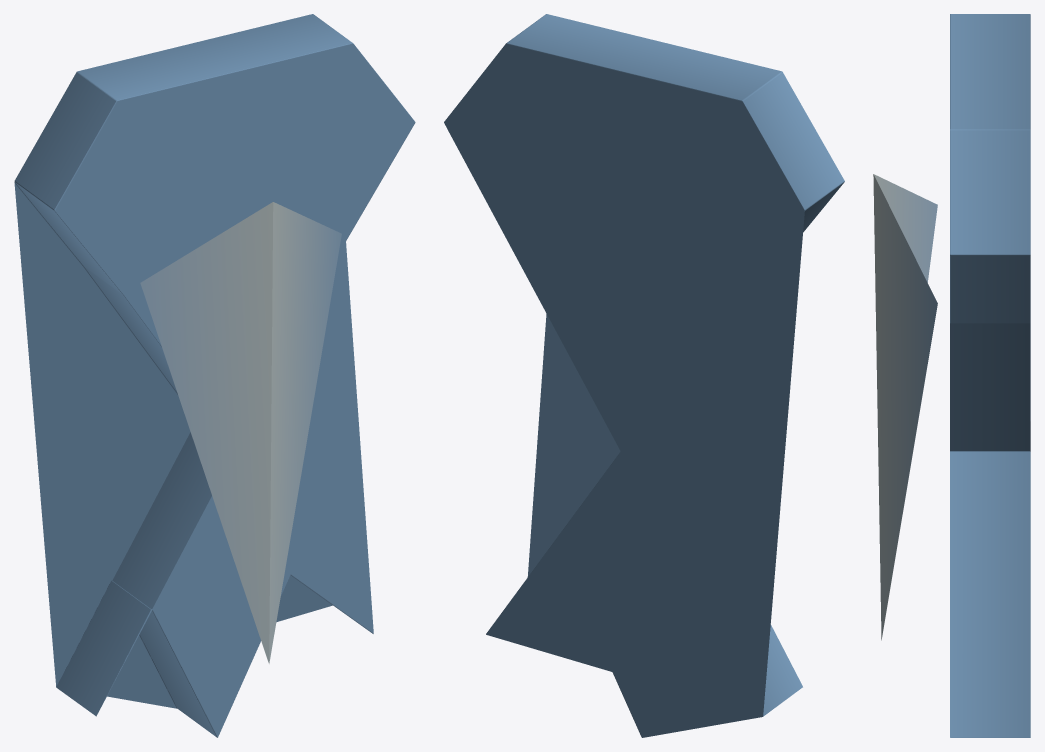
File: Eula_ShatteredLightfallSword_LightfallBlade.fbx
3 renders of one model, left to right at view 1: azimuth 30°, elevation 25°; view 2: azimuth 150°, elevation 25°; view 3: azimuth 270°, elevation 25°, orthographic.
Visible parts, largest first — view 1: PART_FacetedPaleSwordBlade, PART_RaisedChiselBladeRidge; view 2: PART_FacetedPaleSwordBlade; view 3: PART_FacetedPaleSwordBlade, PART_RaisedChiselBladeRidge.
Boxes of the visible parts, box(x1,y1,x2,y2) form: PART_FacetedPaleSwordBlade: box(14, 14, 415, 737); PART_RaisedChiselBladeRidge: box(140, 202, 341, 663); PART_FacetedPaleSwordBlade: box(444, 14, 844, 737); PART_FacetedPaleSwordBlade: box(950, 14, 1030, 737); PART_RaisedChiselBladeRidge: box(873, 174, 937, 640).
Bounding box in the file's own units: 51.93 × 90.94 × 19.5.
